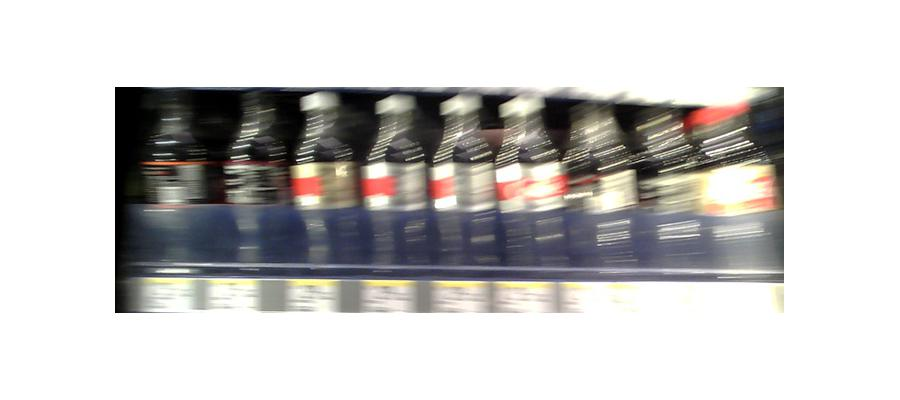bottle: (569, 111, 640, 273), (437, 106, 508, 266), (298, 97, 363, 268), (367, 97, 431, 266), (233, 96, 290, 275), (506, 98, 565, 266)
